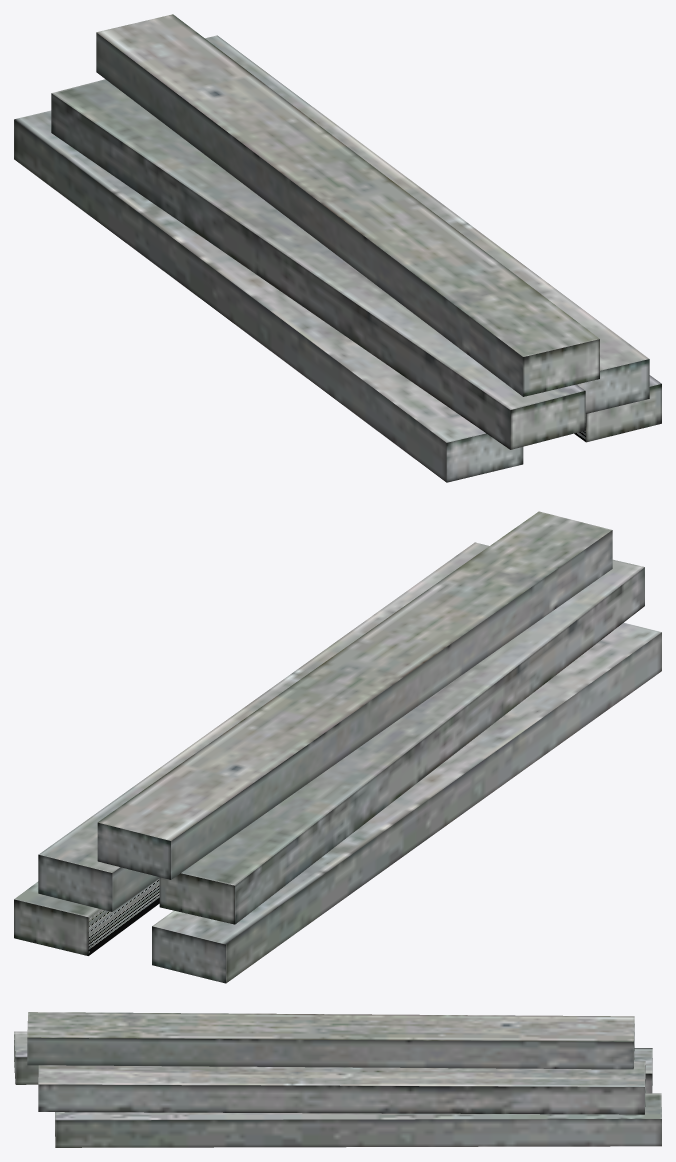
The model's file is smallstack_2x4.fbx.
The picture shows the model from 3 angles, top to bottom: view 1: azimuth 30°, elevation 25°; view 2: azimuth 150°, elevation 25°; view 3: azimuth 270°, elevation 25°; orthographic projection. The views are drawn at different scales.
Visible parts, largest first — view 1: mesh_0; view 2: mesh_0; view 3: mesh_0.
Part boxes in pixels (left/top/right/bottom): mesh_0: left=14, top=14, right=661, bottom=482; mesh_0: left=14, top=511, right=661, bottom=983; mesh_0: left=14, top=1012, right=661, bottom=1147.
Bounding box in the file's own units: 36.19 × 18.62 × 133.
Materials: 1 (1 with a texture image).
